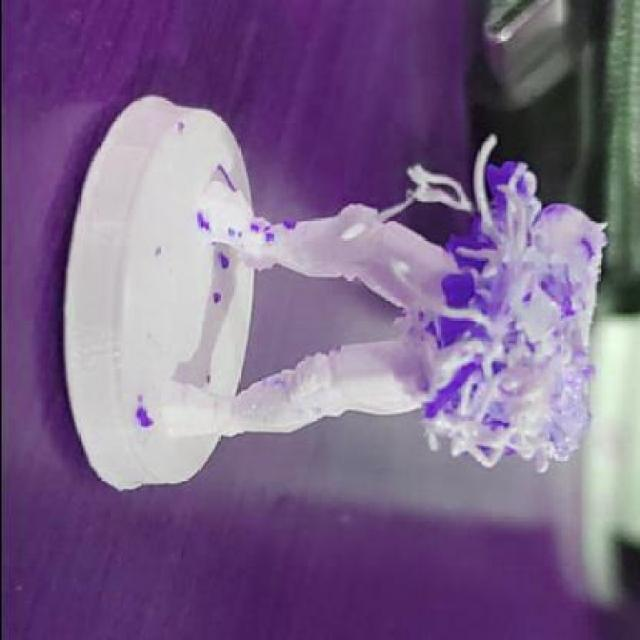Spaghetti: (404, 135, 608, 474)
